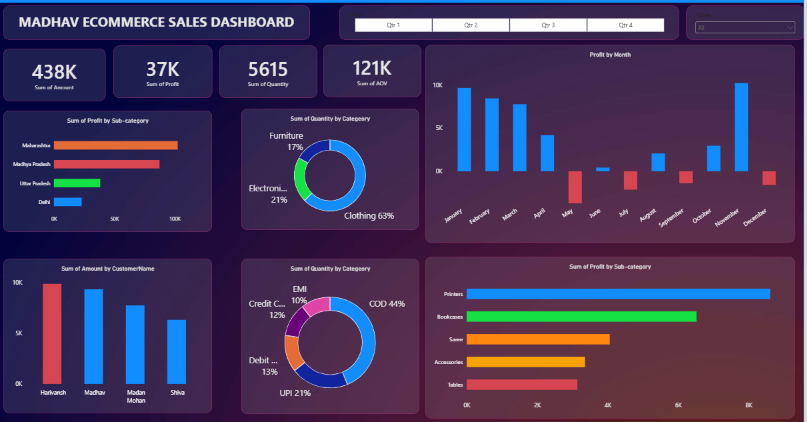

What the dashboard file says about the page in this screenshot:
{"tool":"powerbi","page":{"name":"Page 1","canvas":[1920,1080],"ordinal":0},"visuals":[{"type":"textbox","box":[10.2,40.6,731.4,81.3],"z":0},{"type":"columnChart","title":" Profit by Month","fields":{"Category":["Orders.Order Date.Variation.Date Hierarchy.Month"],"Y":["Sum(Details.Profit)"]},"box":[1015.9,134.6,881.3,472.4],"z":1},{"type":"barChart","title":"Sum of Profit by Sub-category","fields":{"Category":["Details.Sub-Category"],"Y":["Sum(Details.Profit)"]},"box":[1015.9,640,881.3,386],"z":2},{"type":"donutChart","title":"Sum of Quantity by Categeory","fields":{"Category":["Details.Category"],"Y":["Sum(Details.Quantity)"]},"box":[576.7,285.1,423.4,289.4],"z":3},{"type":"donutChart","title":"Sum of Quantity by Categeory","fields":{"Category":["Details.PaymentMode"],"Y":["Sum(Details.Quantity)"]},"box":[576.5,645.1,424.1,370.8],"z":4},{"type":"card","fields":{"Values":["Sum(Details.Amount)"]},"box":[10.2,142.2,243.8,124.4],"z":5},{"type":"card","fields":{"Values":["Sum(Details.Profit)"]},"box":[271.7,137.1,236.2,124.4],"z":6},{"type":"card","fields":{"Values":["Sum(Details.Quantity)"]},"box":[525.7,137.1,233.7,124.4],"z":7},{"type":"card","fields":{"Values":["Sum(Details.AOV)"]},"box":[772.1,134.6,233.7,124.4],"z":8},{"type":"barChart","title":"Sum of Profit by Sub-category","fields":{"Category":["Orders.State"],"Y":["Sum(Details.Amount)"]},"box":[10.2,292.1,497.8,289.5],"z":9},{"type":"columnChart","fields":{"Category":["Orders.CustomerName"],"Y":["Sum(Details.Amount)"]},"box":[10.2,645.1,497.8,368.3],"z":10},{"type":"slicer","fields":{"Values":["Orders.Order Date.Variation.Date Hierarchy.Quarter"]},"box":[810.2,40.6,810.2,81.3],"z":11},{"type":"slicer","fields":{"Values":["Orders.State"]},"box":[1638.1,40.6,281.9,81.3],"z":12}]}

Visuals, with their boxes in screenshot pixels (x1, y1, x2, y2):
textbox: BBox(73, 0, 355, 18)
" Profit by Month" columnChart: BBox(461, 22, 801, 205)
"Sum of Profit by Sub-category" barChart: BBox(461, 217, 801, 366)
"Sum of Quantity by Categeory" donutChart: BBox(292, 81, 455, 192)
"Sum of Quantity by Categeory" donutChart: BBox(292, 219, 455, 362)
card - Sum(Details.Amount): BBox(73, 25, 167, 73)
card - Sum(Details.Profit): BBox(174, 23, 265, 71)
card - Sum(Details.Quantity): BBox(272, 23, 362, 71)
card - Sum(Details.AOV): BBox(367, 22, 457, 70)
"Sum of Profit by Sub-category" barChart: BBox(73, 83, 265, 195)
columnChart - Orders.CustomerName x Sum(Details.Amount): BBox(73, 219, 265, 361)
slicer - Orders.Order Date.Variation.Date Hierarchy.Quarter: BBox(382, 0, 694, 18)
slicer - Orders.State: BBox(701, 0, 806, 18)
